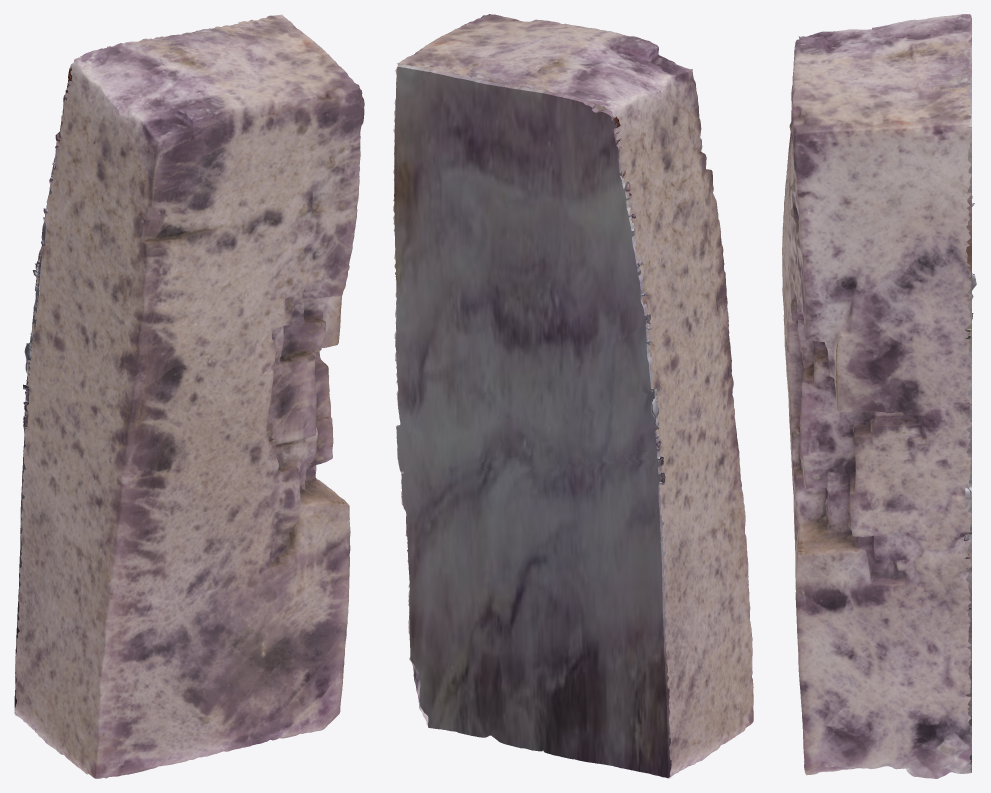
File: fluorite_part2.glb
3 renders of one model, left to right at view 1: azimuth 30°, elevation 25°; view 2: azimuth 150°, elevation 25°; view 3: azimuth 270°, elevation 25°, orthographic. The views are drawn at different scales.
Visible parts, largest first — view 1: Plane.004; view 2: Plane.004; view 3: Plane.004.
Boxes of the visible parts, x1,y1,x2,y2 form: Plane.004: (14, 14, 364, 778); Plane.004: (393, 14, 753, 778); Plane.004: (782, 14, 976, 778).
Bounding box in the file's own units: 16.58 × 38.26 × 9.91.
2 materials, 2 textured.
